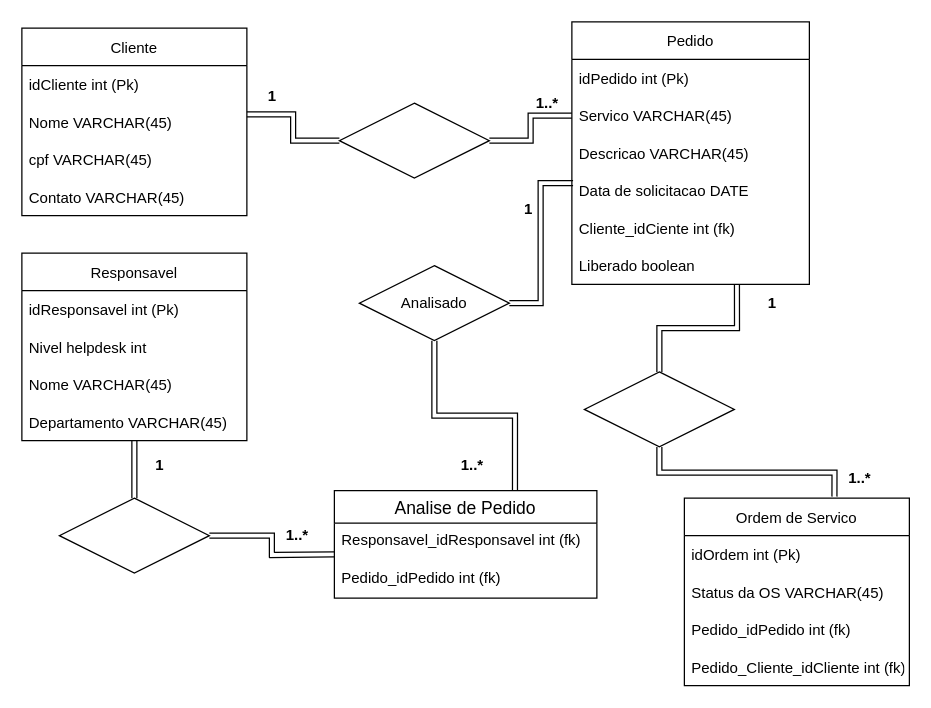
The diagram is 931 pixels wide and 708 high, and some of its shapes have lost their labels. The shapes that lost their labels are listed below. From the top down, each one's centre as x and y in pixels, then its label:
[413,140]: Solicita
[658,409]: Gera
[133,535]: Analisa
